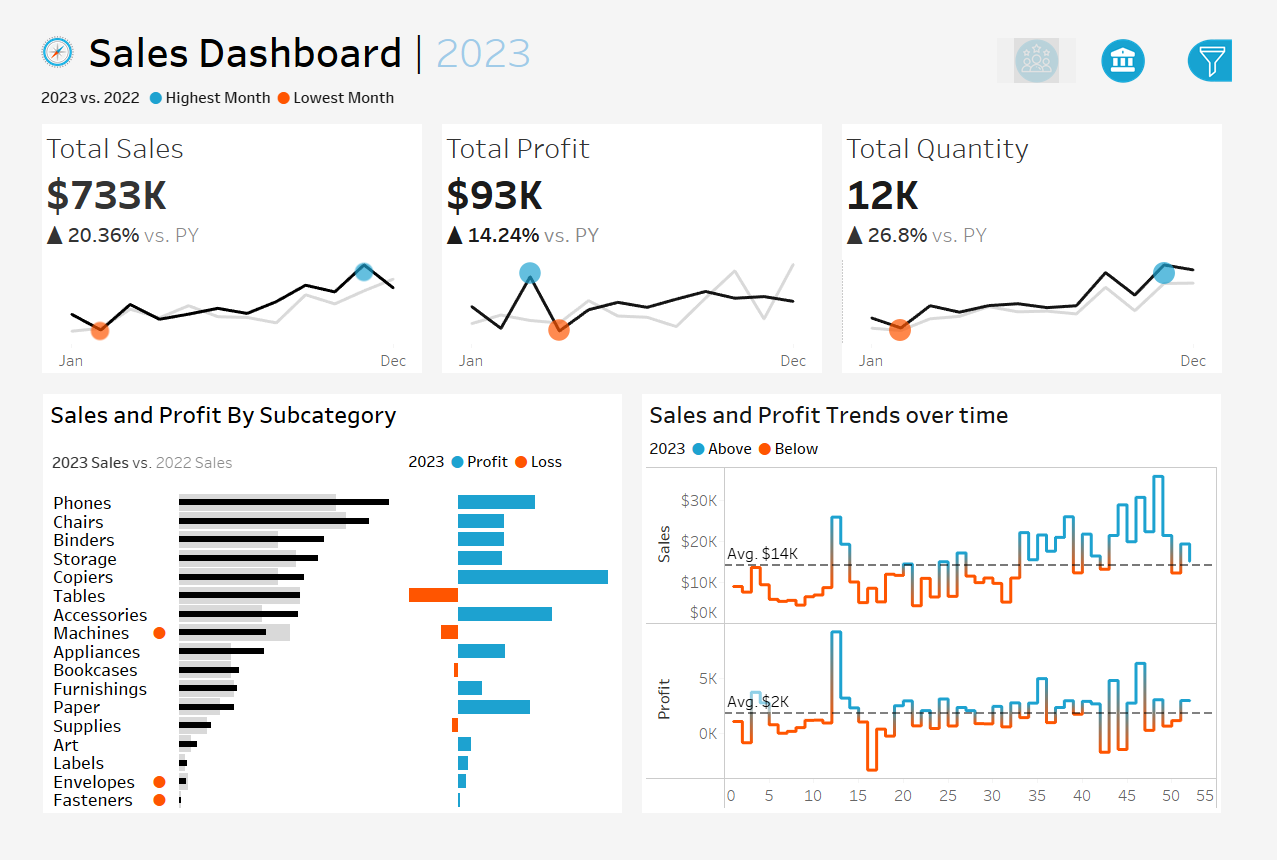

What the dashboard file says about the page in this screenshot:
{"tool":"tableau","page":{"name":"Sales Dashboard","canvas":[1200,800],"ordinal":0},"visuals":[{"type":"image","param":"E:/Education and working details/Data Analyst Job Role - Tablaue/Sales-Dashboard","box":[1,1,48,53]},{"type":"text","box":[49,1,756,53]},{"type":"dashboard-object","box":[961,10,87,53]},{"type":"dashboard-object","box":[1048,10,86,53]},{"type":"blank","box":[970,12,218,72]},{"type":"worksheet","title":"Legend of KPI","mark":"Automatic","box":[0,55,1200,35]},{"type":"text","box":[970,84,218,33]},{"type":"worksheet","title":"KPI Sales","mark":"Automatic","rows":["Calculation_2196912249849790468"],"cols":["Order Date"],"box":[0,90,400,269]},{"type":"worksheet","title":"KPI Profits","mark":"Automatic","rows":["Calculation_2196912249906024462"],"cols":["Order Date"],"box":[400,90,400,269]},{"type":"worksheet","title":"KPI Quantity","mark":"Automatic","rows":["Calculation_2196912250056056852"],"cols":["Order Date"],"box":[800,90,400,269]},{"type":"parameter","param":"[Parameters].[Parameter 1]","box":[970,117,218,56]},{"type":"blank","box":[970,173,218,32]},{"type":"text","box":[970,205,218,33]},{"type":"filter","title":"KPI Sales","param":"[federated.1yrry2m0xnvvl41a3rqys1g5nkax].[none:City:nk]","box":[970,238,218,61]},{"type":"filter","title":"KPI Sales","param":"[federated.1yrry2m0xnvvl41a3rqys1g5nkax].[none:Category:nk]","box":[970,299,218,61]},{"type":"blank","box":[970,360,218,32]},{"type":"text","box":[11,370,579,40]},{"type":"text","box":[610,370,579,40]},{"type":"text","box":[970,392,218,33]},{"type":"text","box":[610,410,579,29]},{"type":"worksheet","title":"Legend of Subcategory","mark":"Automatic","box":[12,411,356,53]},{"type":"text","box":[368,411,221,53]},{"type":"filter","title":"KPI Sales","param":"[federated.1yrry2m0xnvvl41a3rqys1g5nkax].[none:Region:nk]","box":[970,425,218,61]},{"type":"worksheet","title":"Weekly Trends","mark":"Automatic","rows":["Calculation_2196912249730834432","Calculation_2196912249899601931"],"cols":["Order Date"],"box":[610,439,579,350]},{"type":"worksheet","title":"Subcategory Comparison","mark":"Bar","rows":["Sub-Category","Calculation_2196912250128228375"],"cols":["CY Sales (copy)_2196912249732636673","Calculation_2196912249730834432","Calculation_2196912249899601931"],"box":[11,465,579,324]},{"type":"filter","title":"KPI Sales","param":"[federated.1yrry2m0xnvvl41a3rqys1g5nkax].[none:Sub-Category:nk]","box":[970,486,218,61]},{"type":"filter","title":"KPI Sales","param":"[federated.1yrry2m0xnvvl41a3rqys1g5nkax].[none:State:nk]","box":[970,547,218,61]}]}

Visuals, with their boxes in screenshot pixels (x1, y1, x2, y2), scaled from the page's 1200x800 canvas onto the 1277x860 screenshot:
image: [x1=1, y1=1, x2=52, y2=58]
text: [x1=52, y1=1, x2=857, y2=58]
dashboard-object: [x1=1023, y1=11, x2=1115, y2=68]
dashboard-object: [x1=1115, y1=11, x2=1207, y2=68]
blank: [x1=1032, y1=13, x2=1264, y2=90]
"Legend of KPI" worksheet: [x1=0, y1=59, x2=1276, y2=97]
text: [x1=1032, y1=90, x2=1264, y2=126]
"KPI Sales" worksheet: [x1=0, y1=97, x2=426, y2=386]
"KPI Profits" worksheet: [x1=426, y1=97, x2=851, y2=386]
"KPI Quantity" worksheet: [x1=851, y1=97, x2=1276, y2=386]
parameter: [x1=1032, y1=126, x2=1264, y2=186]
blank: [x1=1032, y1=186, x2=1264, y2=220]
text: [x1=1032, y1=220, x2=1264, y2=256]
"KPI Sales" filter: [x1=1032, y1=256, x2=1264, y2=321]
"KPI Sales" filter: [x1=1032, y1=321, x2=1264, y2=387]
blank: [x1=1032, y1=387, x2=1264, y2=421]
text: [x1=12, y1=398, x2=628, y2=441]
text: [x1=649, y1=398, x2=1265, y2=441]
text: [x1=1032, y1=421, x2=1264, y2=457]
text: [x1=649, y1=441, x2=1265, y2=472]
"Legend of Subcategory" worksheet: [x1=13, y1=442, x2=392, y2=499]
text: [x1=392, y1=442, x2=627, y2=499]
"KPI Sales" filter: [x1=1032, y1=457, x2=1264, y2=522]
"Weekly Trends" worksheet: [x1=649, y1=472, x2=1265, y2=848]
"Subcategory Comparison" worksheet (Bar marks): [x1=12, y1=500, x2=628, y2=848]
"KPI Sales" filter: [x1=1032, y1=522, x2=1264, y2=588]
"KPI Sales" filter: [x1=1032, y1=588, x2=1264, y2=654]
